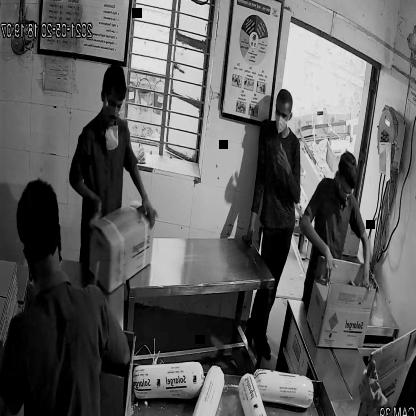goggles: (104, 96, 128, 114), (336, 179, 356, 197)
no_goggles: (273, 104, 295, 123)
